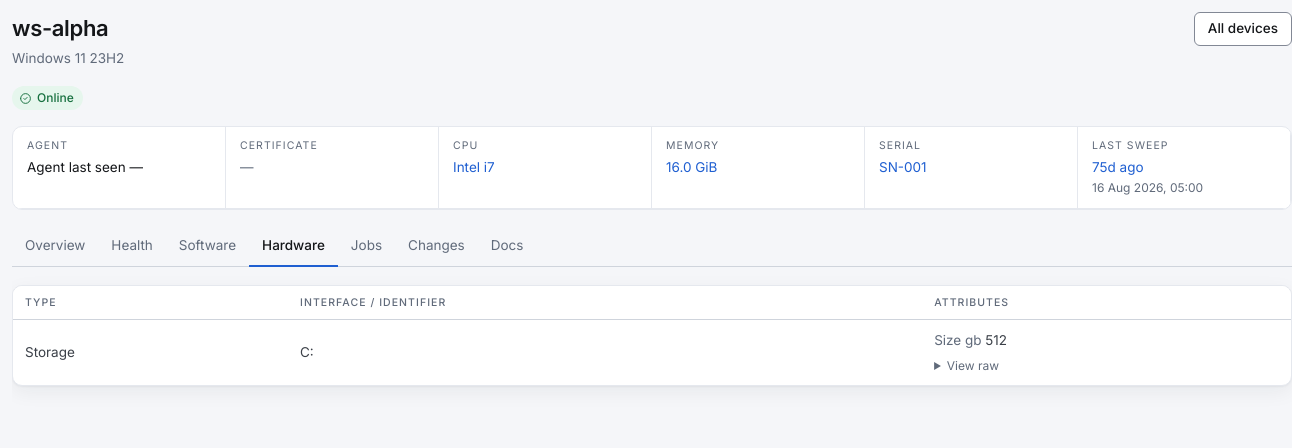
Scenario: times are read in the profile's zone › still renders a software row with no install date at all
Expected: the heading "ws-alpha" is shown, [12,12,124,45]
Click the tab "Software". click: (207, 246)
box: [166,226,249,267]
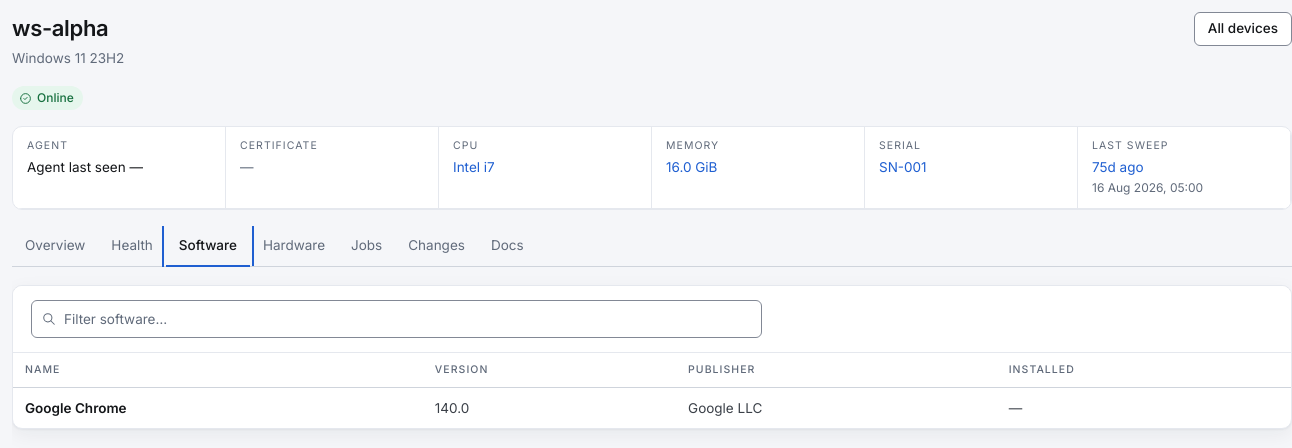
Expected: the text "—" is shown, [997,387,1291,428]
